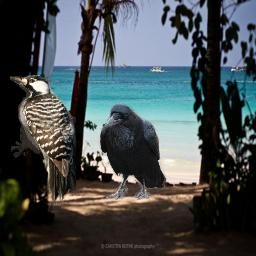Crow: (99, 103, 167, 200)
Woodpecker: (10, 75, 76, 206)
